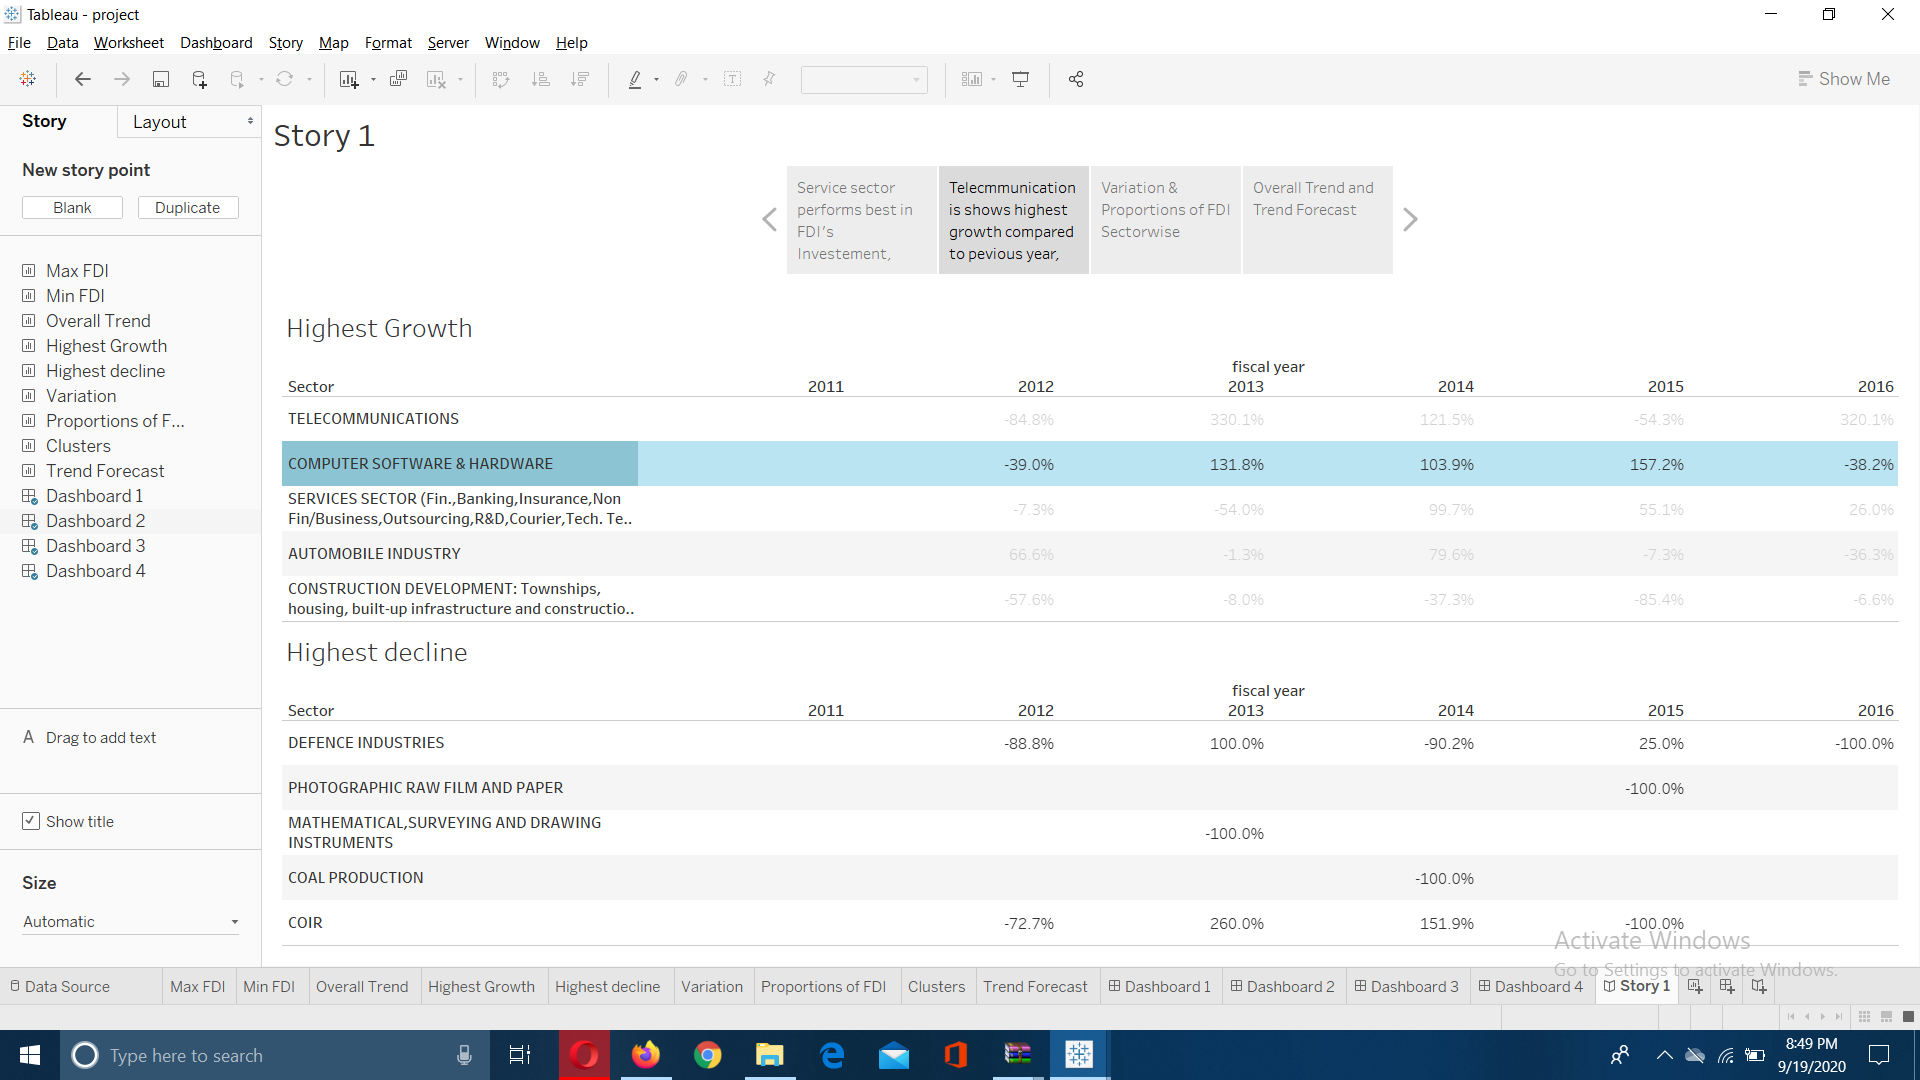

Layout of this report page (visuals, bound fields, positions):
{"tool":"tableau","page":{"name":"Dashboard 2","canvas":[1000,1000],"units":"permille","ordinal":1},"visuals":[{"type":"worksheet","box":[0,0,1000,1000]},{"type":"worksheet","title":"Highest Growth","mark":"Automatic","rows":["Sector"],"cols":["Calculation_385902219081265152"],"box":[4.8,9.3,990.3,490.7]},{"type":"worksheet","title":"Highest decline","mark":"Automatic","rows":["Sector"],"cols":["Calculation_385902219081265152"],"box":[4.8,500,990.3,490.7]}]}

Visuals, with their boxes on the dashboard's canvas, which has no fixed pixel size, in thousandths of its width and height (x1, y1, x2, y2). These are canvas units, not pixel positions in the 1920x1080 screenshot, which may show the page scaled, cropped or inside an application window:
worksheet: bbox(0, 0, 1000, 1000)
"Highest Growth" worksheet: bbox(5, 9, 995, 500)
"Highest decline" worksheet: bbox(5, 500, 995, 991)
